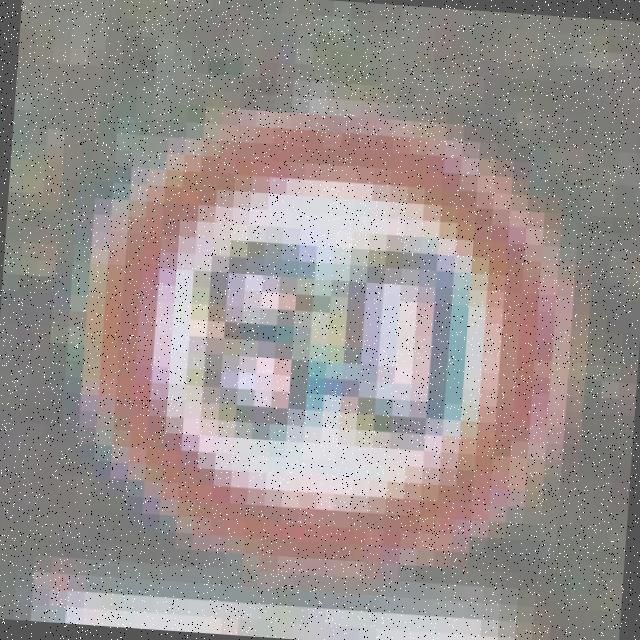Ograniczenie predkosci do 80: (83, 105, 567, 590)
